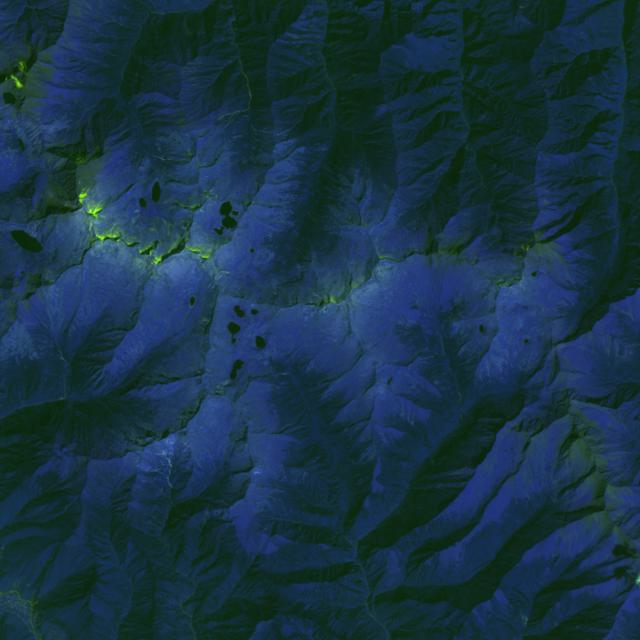landslides: (24, 298, 54, 339), (38, 287, 56, 332), (491, 336, 514, 369), (397, 347, 430, 365), (56, 275, 66, 329), (277, 417, 302, 434), (217, 108, 249, 121), (284, 32, 324, 41), (127, 334, 142, 354), (408, 356, 434, 367), (511, 476, 520, 507), (135, 325, 149, 344), (309, 287, 325, 303), (580, 32, 594, 50), (188, 60, 223, 67), (127, 339, 139, 358), (339, 146, 351, 163), (55, 315, 66, 333), (62, 33, 74, 48), (289, 424, 307, 434), (20, 301, 32, 314), (277, 382, 296, 390), (79, 98, 90, 111), (519, 613, 529, 627), (428, 373, 447, 380), (81, 0, 92, 12), (486, 357, 491, 383), (421, 351, 445, 356), (332, 531, 340, 545), (274, 371, 292, 377), (184, 18, 190, 35)
